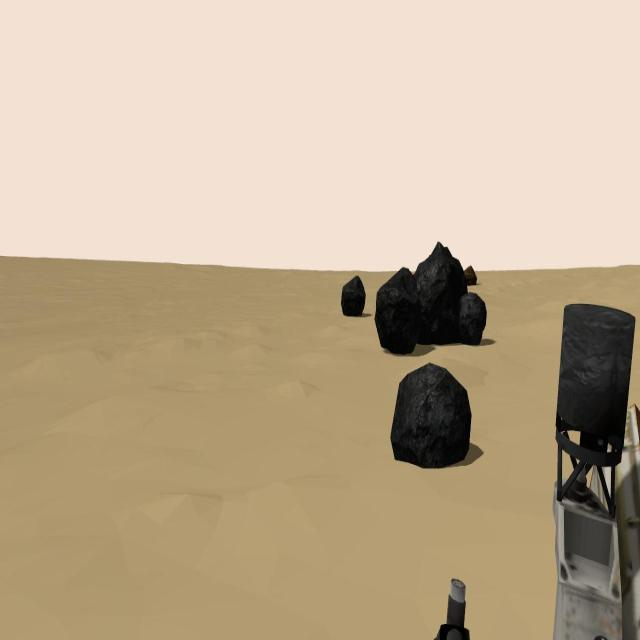rock: (390, 362, 472, 469), (413, 241, 468, 348), (374, 267, 418, 356), (459, 292, 486, 347), (341, 275, 366, 316), (463, 264, 477, 286)
